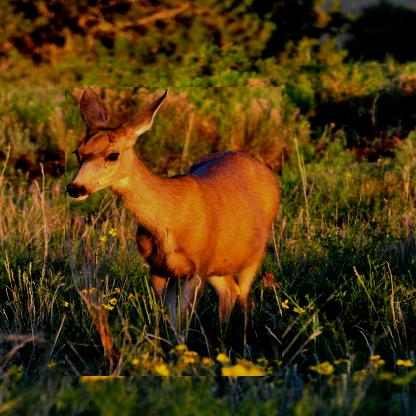Deer: (65, 87, 282, 376)
